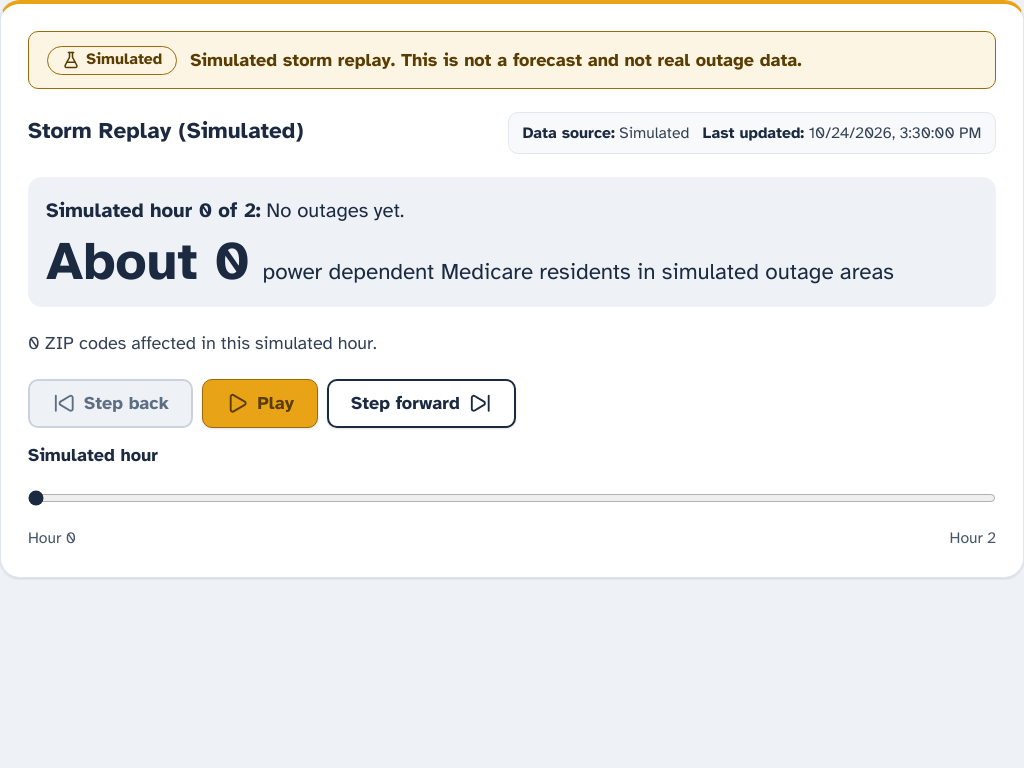
Test: StormReplay › the slider jumps to an hour
Set the slider labelled "Simulated hour" to "2": (988, 498) [28,473,996,522]
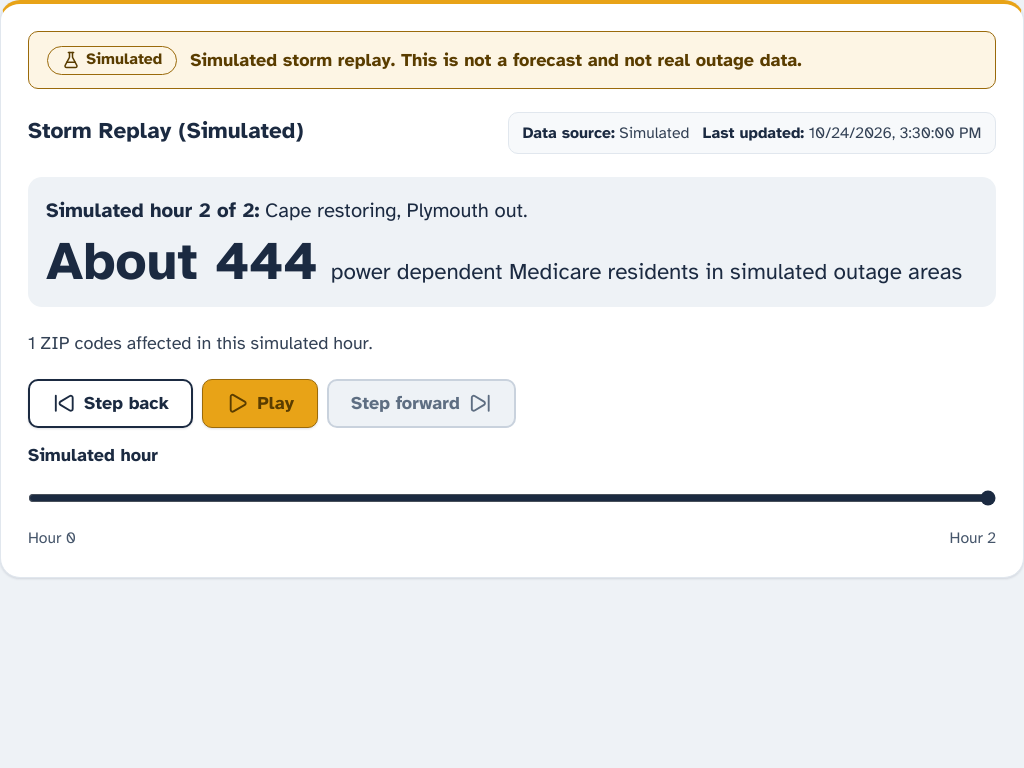
Check: the text "Simulated hour 2 of 2:" is shown, box [46,198,259,222]
